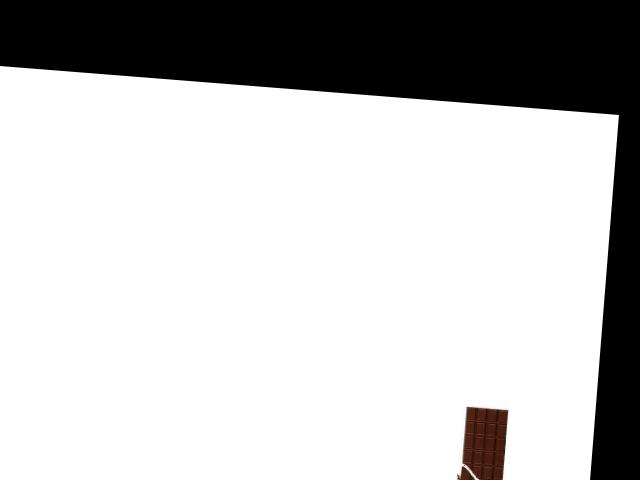chocolate: (445, 404, 515, 480)
